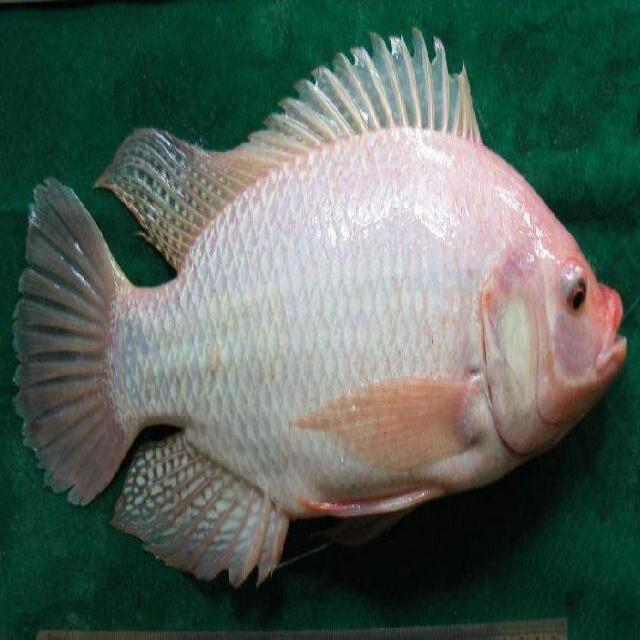ikan: (13, 28, 631, 589)
